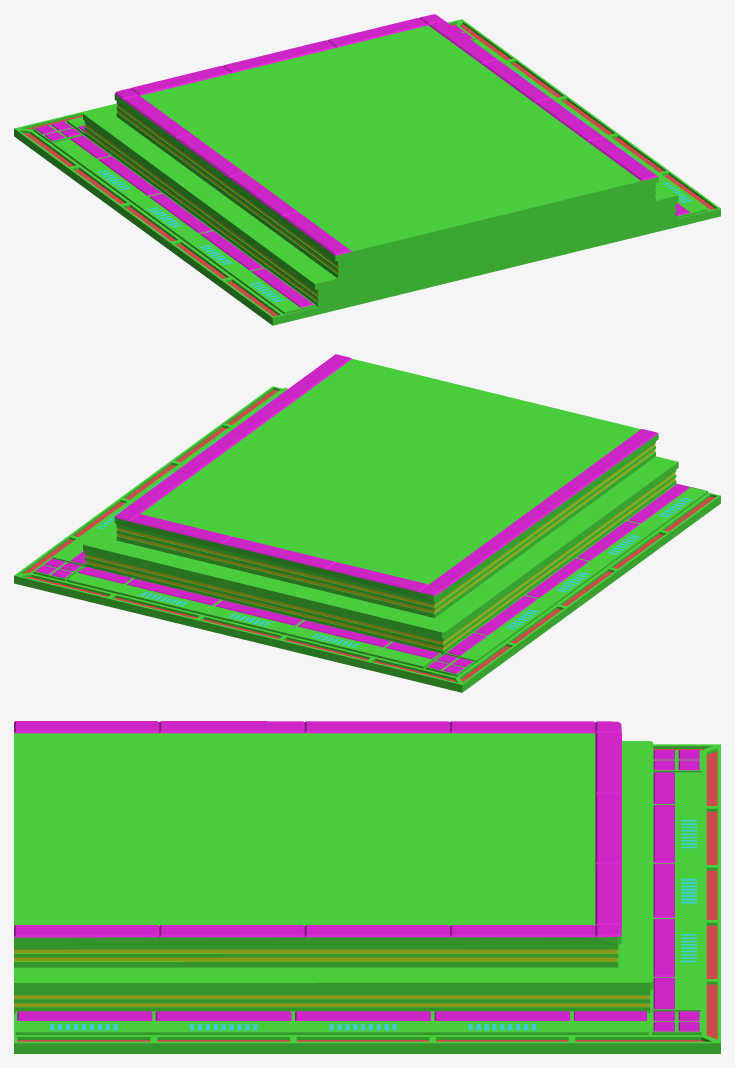
Rendered from Floor_10_Edge.fbx.
The picture shows the model from 3 angles, top to bottom: view 1: azimuth 30°, elevation 25°; view 2: azimuth 150°, elevation 25°; view 3: azimuth 270°, elevation 25°; orthographic projection. The views are drawn at different scales.
Visible parts, largest first — view 1: Floor_10_Edge; view 2: Floor_10_Edge; view 3: Floor_10_Edge.
Boxes of the visible parts, x1,y1,x2,y2 form: Floor_10_Edge: (14,14,720,325); Floor_10_Edge: (14,354,720,692); Floor_10_Edge: (14,721,720,1053).
Size of what is drawn, in the model's own units: 457 by 54.62 by 457.
